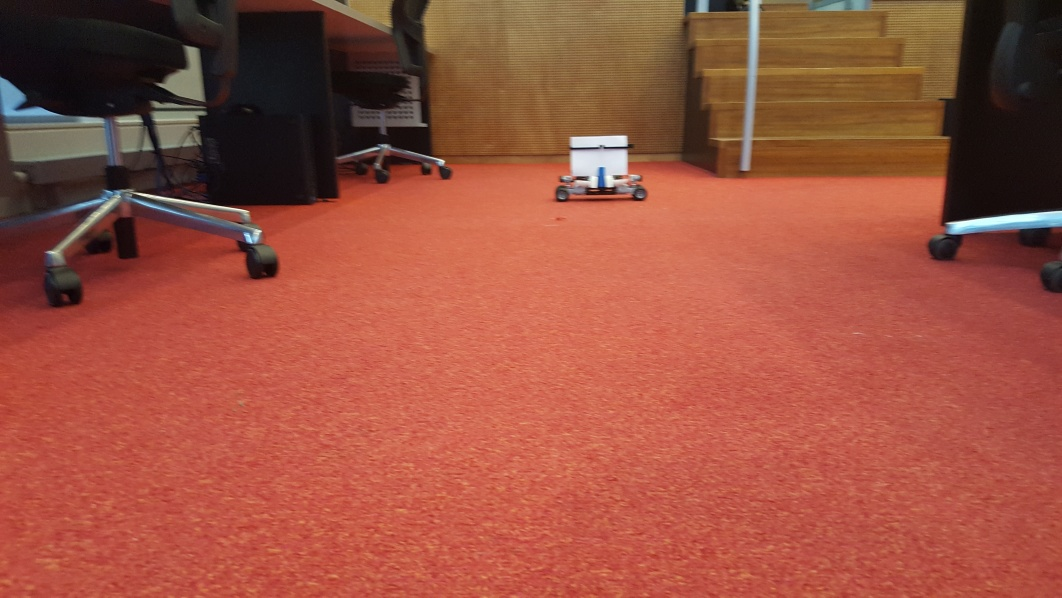car: (554, 136, 647, 206)
